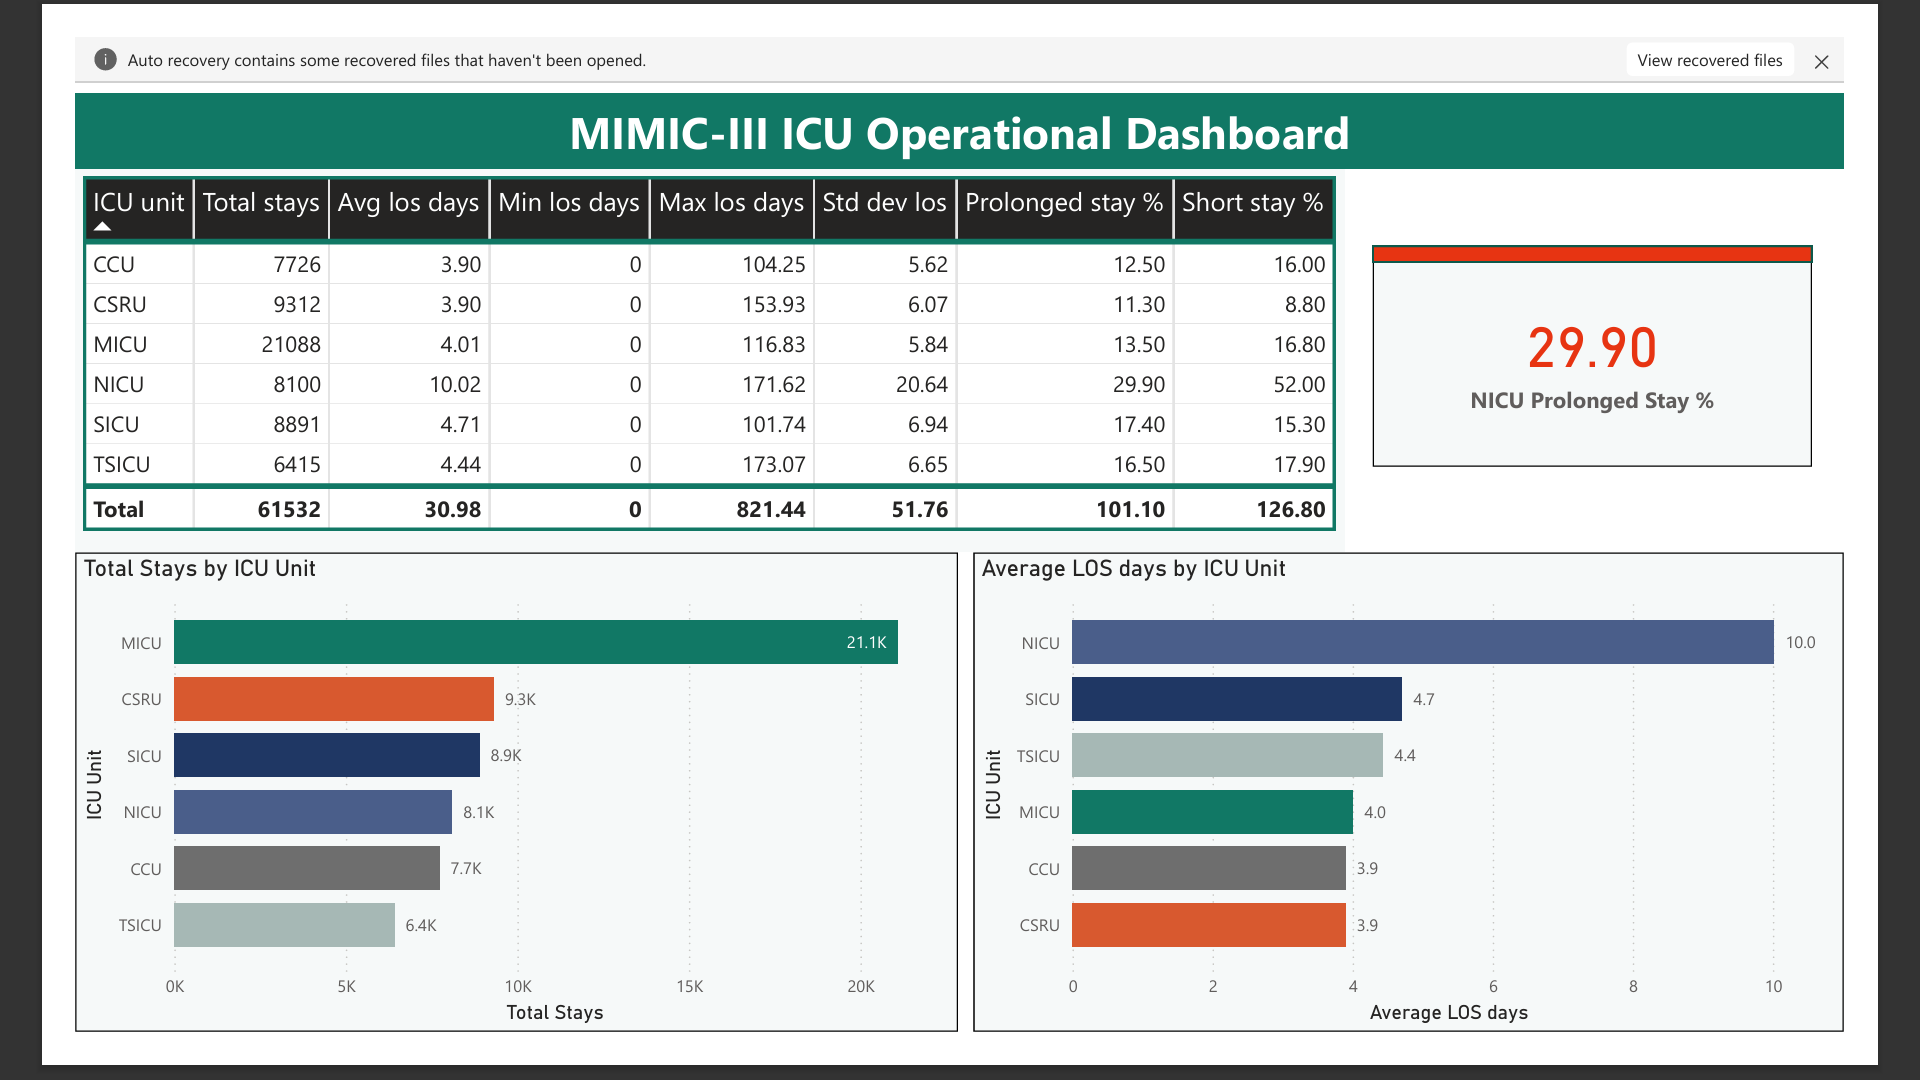

This screenshot's page, from the dashboard's own definition file:
{"tool":"powerbi","page":{"name":"ICU Unit Analysis","canvas":[1280,720],"ordinal":2},"visuals":[{"type":"textbox","box":[0,41.2,1280.3,54.9],"z":0},{"type":"clusteredBarChart","fields":{"Category":["ICU_performance.icu_unit"],"Y":["Sum(ICU_performance.total_stays)"]},"box":[0,373.2,639.5,347.2],"z":1000},{"type":"clusteredBarChart","fields":{"Category":["ICU_performance.icu_unit"],"Y":["Sum(ICU_performance.avg_los_days)"]},"box":[650.4,373.2,629.8,347.2],"z":2000},{"type":"card","fields":{"Values":["Sum(ICU_performance.pct_prolonged_stay)"]},"box":[938.6,150.9,318.4,160.5],"z":3000},{"type":"shape","box":[938.6,150.9,318.4,12.3],"z":4000},{"type":"tableEx","title":"ICU Performance","fields":{"Values":["ICU_performance.icu_unit","Sum(ICU_performance.total_stays)","Sum(ICU_performance.avg_los_days)","Sum(ICU_performance.min_los_days)","Sum(ICU_performance.max_los_days)","Sum(ICU_performance.stddev_los)","Sum(ICU_performance.pct_prolonged_stay)","Sum(ICU_performance.pct_short_stay)"]},"box":[0,96.1,919.4,277.2],"z":5000}]}

Visuals, with their boxes on the page's 1280x720 design canvas (x1, y1, x2, y2). These are canvas units, not pixel positions in the 1920x1080 screenshot, which may show the page scaled, cropped or inside an application window:
textbox: (0,41,1280,96)
clusteredBarChart - ICU_performance.icu_unit x Sum(ICU_performance.total_stays): (0,373,640,720)
clusteredBarChart - ICU_performance.icu_unit x Sum(ICU_performance.avg_los_days): (650,373,1280,720)
card - Sum(ICU_performance.pct_prolonged_stay): (939,151,1257,311)
shape: (939,151,1257,163)
"ICU Performance" tableEx: (0,96,919,373)
